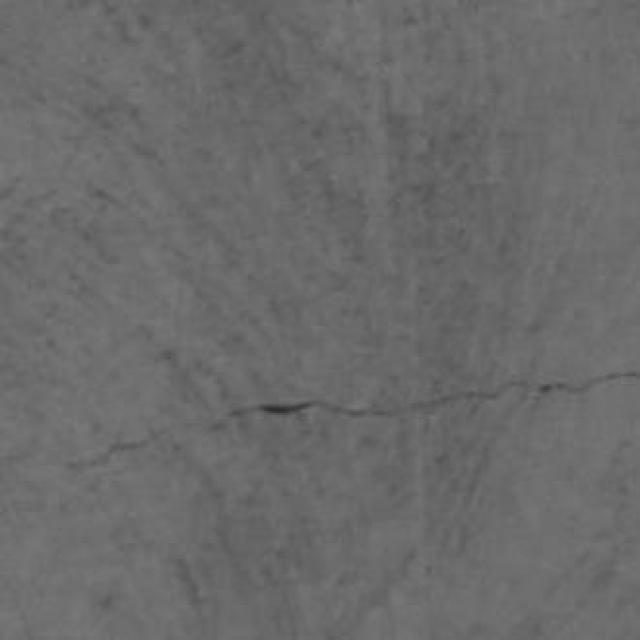crack: (208, 371, 639, 430), (212, 371, 639, 430), (66, 431, 162, 471)
